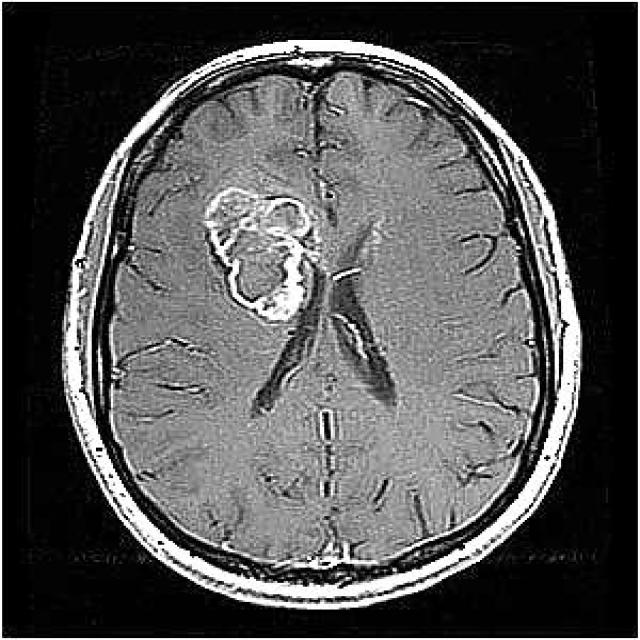Tumor-Cell: (188, 166, 312, 305)
